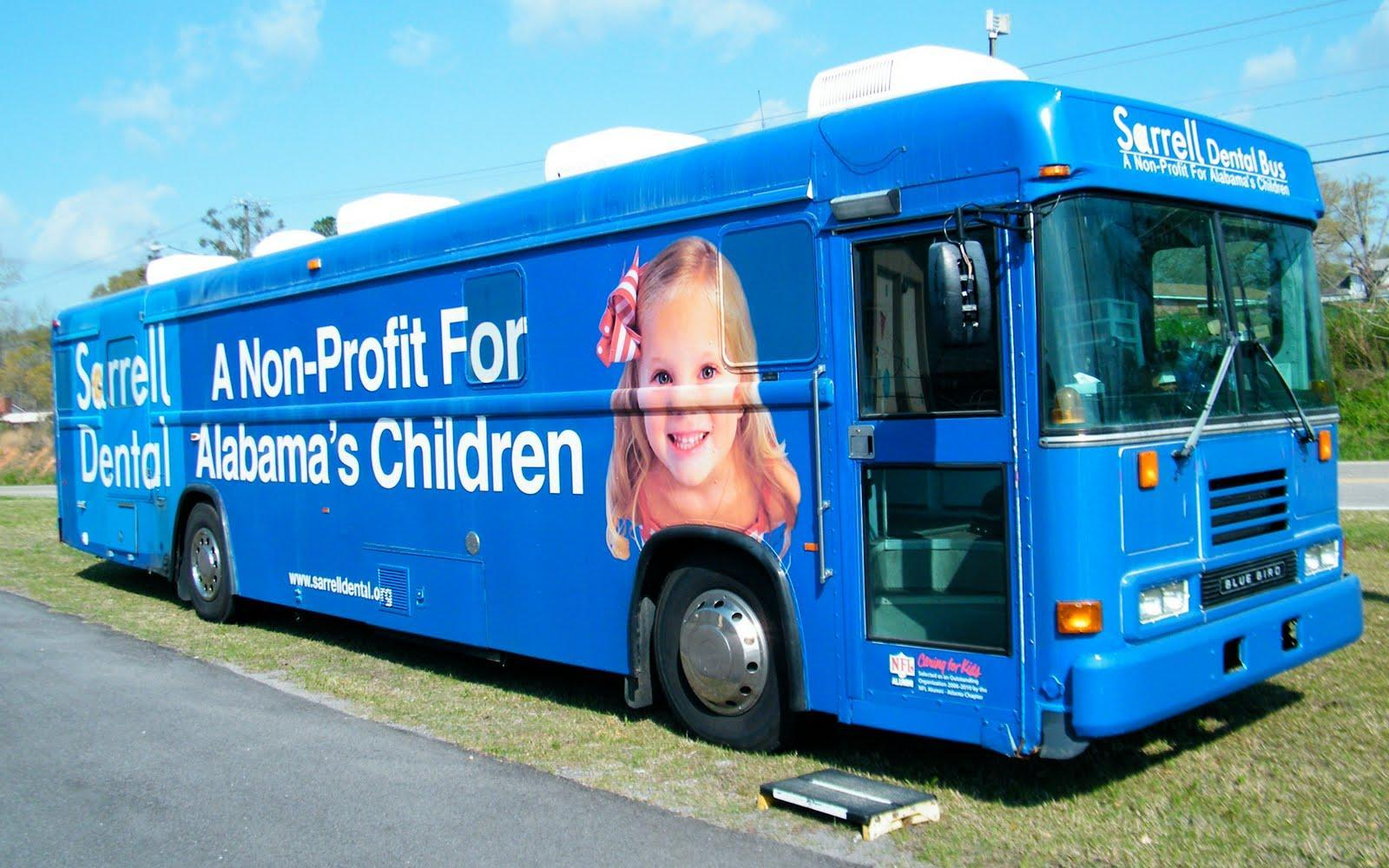Bus: (49, 78, 1366, 762)
